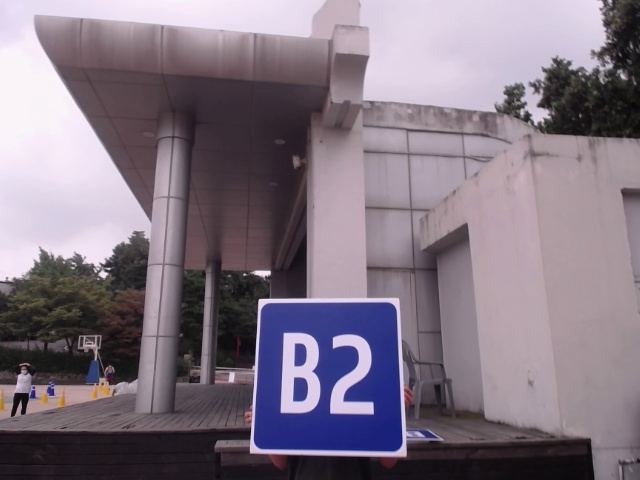delivery_b2: (251, 298, 403, 453)
